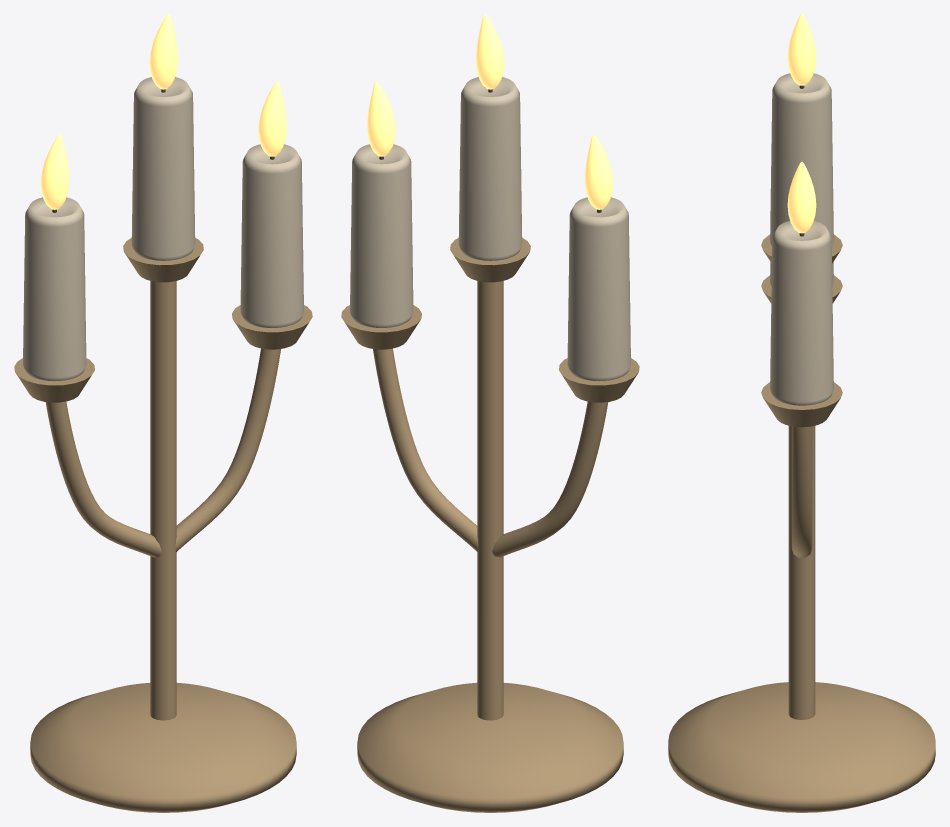
The model's file is candelabra.glb.
3 renders of one model, left to right at view 1: azimuth 30°, elevation 25°; view 2: azimuth 150°, elevation 25°; view 3: azimuth 270°, elevation 25°, orthographic.
Parts seen in each view (by area): view 1: weighted-candelabra-base, continuous-candelabra-stem, branched-candle-1-wax-body, branched-candle-0-wax-body, branched-candle-2-wax-body, branched-candle-arm-2, branched-candle-arm-0, receiving-candle-cup-1, receiving-candle-cup-2, receiving-candle-cup-0, branched-candle-2-flame, branched-candle-1-flame (+1 smaller); view 2: weighted-candelabra-base, continuous-candelabra-stem, branched-candle-1-wax-body, branched-candle-0-wax-body, branched-candle-2-wax-body, branched-candle-arm-2, branched-candle-arm-0, receiving-candle-cup-1, receiving-candle-cup-2, receiving-candle-cup-0, branched-candle-2-flame, branched-candle-1-flame (+1 smaller); view 3: weighted-candelabra-base, branched-candle-2-wax-body, branched-candle-1-wax-body, continuous-candelabra-stem, branched-candle-arm-2, receiving-candle-cup-2, branched-candle-1-flame, branched-candle-2-flame.
Boxes of the visible parts, left/top/right/bottom form: weighted-candelabra-base: left=30, top=682, right=296, bottom=812; continuous-candelabra-stem: left=150, top=281, right=176, bottom=720; branched-candle-1-wax-body: left=131, top=77, right=195, bottom=260; branched-candle-0-wax-body: left=23, top=197, right=86, bottom=381; branched-candle-2-wax-body: left=240, top=144, right=303, bottom=327; branched-candle-arm-2: left=175, top=348, right=280, bottom=552; branched-candle-arm-0: left=45, top=401, right=161, bottom=557; receiving-candle-cup-1: left=123, top=238, right=203, bottom=282; receiving-candle-cup-2: left=232, top=305, right=312, bottom=349; receiving-candle-cup-0: left=14, top=358, right=94, bottom=402; branched-candle-2-flame: left=258, top=81, right=286, bottom=156; branched-candle-1-flame: left=149, top=14, right=177, bottom=89; weighted-candelabra-base: left=357, top=682, right=623, bottom=812; continuous-candelabra-stem: left=477, top=281, right=503, bottom=720; branched-candle-1-wax-body: left=458, top=77, right=522, bottom=260; branched-candle-0-wax-body: left=567, top=197, right=630, bottom=381; branched-candle-2-wax-body: left=350, top=144, right=413, bottom=327; branched-candle-arm-2: left=373, top=348, right=478, bottom=552; branched-candle-arm-0: left=492, top=401, right=608, bottom=557; receiving-candle-cup-1: left=450, top=238, right=530, bottom=282; receiving-candle-cup-2: left=341, top=305, right=421, bottom=349; receiving-candle-cup-0: left=559, top=358, right=639, bottom=402; branched-candle-2-flame: left=367, top=81, right=395, bottom=156; branched-candle-1-flame: left=476, top=14, right=504, bottom=89; weighted-candelabra-base: left=668, top=682, right=935, bottom=812; branched-candle-2-wax-body: left=770, top=221, right=833, bottom=405; branched-candle-1-wax-body: left=770, top=73, right=833, bottom=246; continuous-candelabra-stem: left=788, top=426, right=815, bottom=719; branched-candle-arm-2: left=791, top=426, right=812, bottom=557; receiving-candle-cup-2: left=761, top=382, right=842, bottom=427; branched-candle-1-flame: left=787, top=14, right=816, bottom=85; branched-candle-2-flame: left=787, top=162, right=816, bottom=233.
Bounding box in the file's own units: 0.45 × 1.12 × 0.36.
